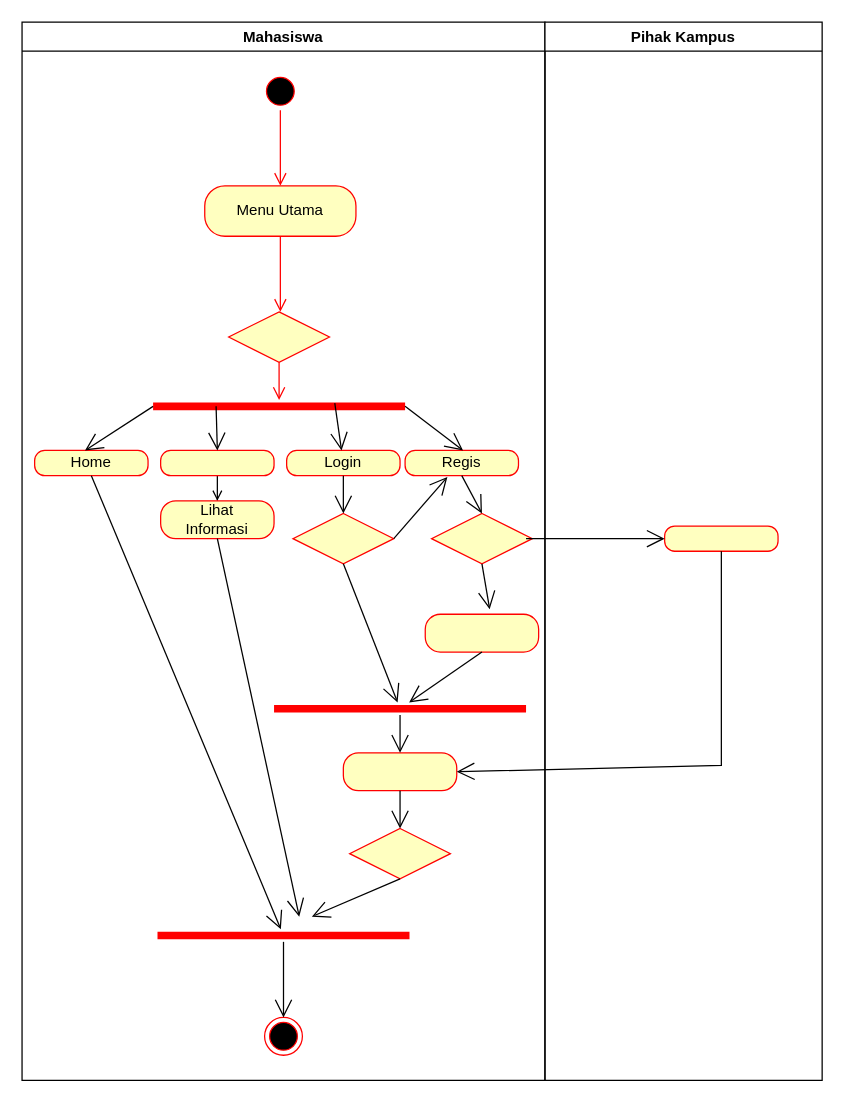
Some shapes in this 844 by 1103 pixel diagram are drawn without their labels. Here are the shapes that lost their labels. From the top down, the box of each, then its label:
(159, 449, 274, 476): Informasi
(663, 525, 778, 551): validasi data
(424, 613, 539, 652): menunggu validasi
(342, 752, 457, 791): lihat info regis
